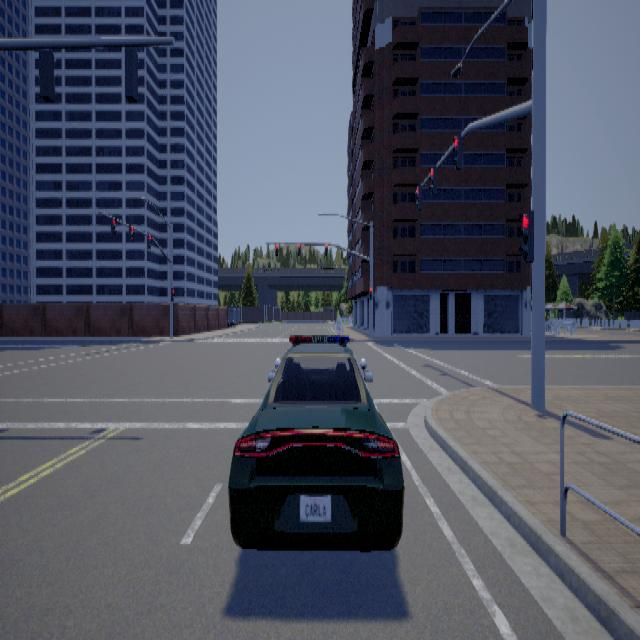red_light: (518, 209, 533, 261), (451, 133, 462, 168), (428, 165, 436, 194), (414, 183, 421, 209), (110, 216, 116, 234), (128, 224, 133, 241), (146, 232, 151, 248), (170, 286, 174, 300), (324, 243, 328, 255), (297, 242, 300, 255), (369, 286, 372, 298), (275, 243, 278, 255)
vehicle: (227, 333, 404, 551)
